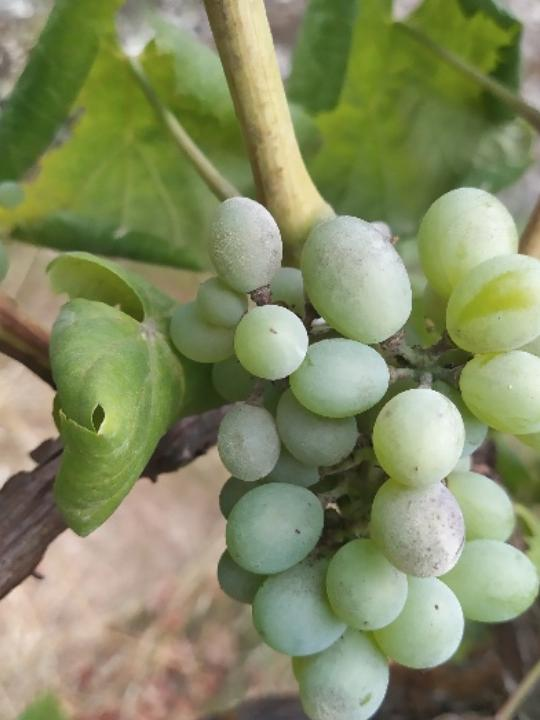grape: (165, 187, 540, 720)
